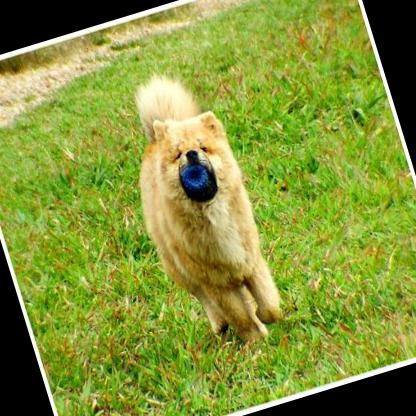chow: (98, 53, 294, 368)
